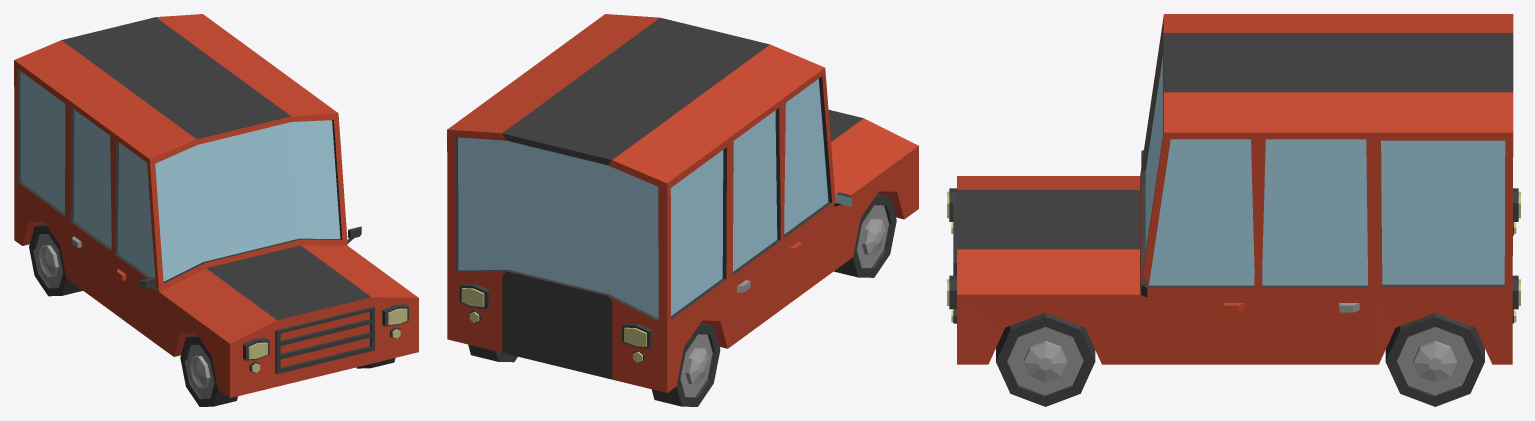
Rendered from realcarbuildSUV.fbx.
The picture shows the model from 3 angles, left to right: view 1: azimuth 30°, elevation 25°; view 2: azimuth 150°, elevation 25°; view 3: azimuth 270°, elevation 25°; orthographic projection. The views are drawn at different scales.
Visible parts, largest first — view 1: Cube; view 2: Cube; view 3: Cube.
Part boxes in pixels (x1,y1,x2,y2): Cube: (14,14,418,406); Cube: (447,14,918,406); Cube: (947,14,1520,406).
Size of the model in its own units: 349 by 336 by 608.
